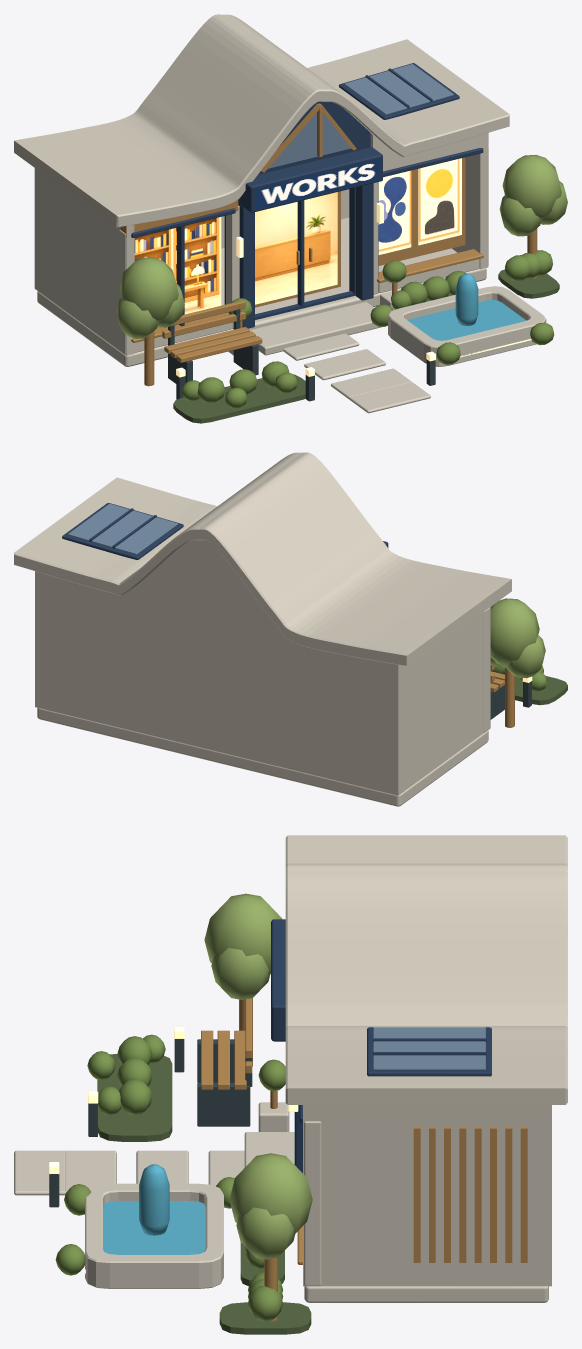
The model's file is works-museum.glb.
3 renders of one model, top to bottom at view 1: azimuth 30°, elevation 25°; view 2: azimuth 150°, elevation 25°; view 3: azimuth 270°, elevation 25°, orthographic. The views are drawn at different scales.
Parts seen in each view (by area): view 1: works-folded-roof, works-architecture-works-ivory-false, works-architecture-works-interior-true, works-architecture-works-navy-false, works-garden-works-leaf-false, works-ivory (×5), works-garden-works-green-false, works-architecture-works-wood-false, works-fountain-rim, works-garden-works-wood-false, works-garden-works-soil-false, works-skylight-works-glass-false (+6 smaller); view 2: works-architecture-works-ivory-false, works-folded-roof, works-garden-works-leaf-false, works-skylight-works-glass-false, works-skylight-works-navy-false, works-garden-works-wood-false, works-garden-works-soil-false, works-garden-works-metal-false; view 3: works-folded-roof, works-architecture-works-ivory-false, works-garden-works-leaf-false, works-architecture-works-wood-false, works-fountain-rim, works-garden-works-green-false, works-ivory (×5), works-garden-works-soil-false, works-fountain-water, works-skylight-works-glass-false, works-garden-works-metal-false, works-garden-works-wood-false (+4 smaller).
Boxes of the visible parts, <box> form: works-folded-roof: <box>14,14,509,227</box>; works-architecture-works-ivory-false: <box>34,132,488,366</box>; works-architecture-works-interior-true: <box>134,158,461,314</box>; works-architecture-works-navy-false: <box>131,101,483,328</box>; works-garden-works-leaf-false: <box>116,155,567,338</box>; works-ivory (×5): <box>250,302,430,413</box>; works-garden-works-green-false: <box>181,250,554,408</box>; works-architecture-works-wood-false: <box>120,103,483,342</box>; works-fountain-rim: <box>388,286,546,366</box>; works-garden-works-wood-false: <box>144,228,537,386</box>; works-garden-works-soil-false: <box>173,269,559,423</box>; works-skylight-works-glass-false: <box>344,64,453,114</box>; works-architecture-works-ivory-false: <box>35,540,490,806</box>; works-folded-roof: <box>14,452,511,666</box>; works-garden-works-leaf-false: <box>490,598,545,678</box>; works-skylight-works-glass-false: <box>68,503,177,554</box>; works-skylight-works-navy-false: <box>62,503,183,559</box>; works-garden-works-wood-false: <box>490,665,514,727</box>; works-garden-works-soil-false: <box>515,676,567,705</box>; works-garden-works-metal-false: <box>490,681,531,719</box>; works-folded-roof: <box>285,835,567,1104</box>; works-architecture-works-ivory-false: <box>303,1105,551,1302</box>; works-garden-works-leaf-false: <box>204,893,312,1259</box>; works-architecture-works-wood-false: <box>297,1126,527,1264</box>; works-fountain-rim: <box>85,1183,223,1288</box>; works-garden-works-green-false: <box>55,1034,285,1321</box>; works-ivory (×5): <box>14,1132,294,1195</box>; works-garden-works-soil-false: <box>97,1054,311,1334</box>; works-fountain-water: <box>103,1201,205,1254</box>; works-skylight-works-glass-false: <box>373,1027,485,1070</box>; works-garden-works-metal-false: <box>49,1039,252,1207</box>; works-garden-works-wood-false: <box>201,998,277,1321</box>.
Size of the model in its own units: 2.57 by 1.28 by 1.99.
Materials: 12 (2 with a texture image).
